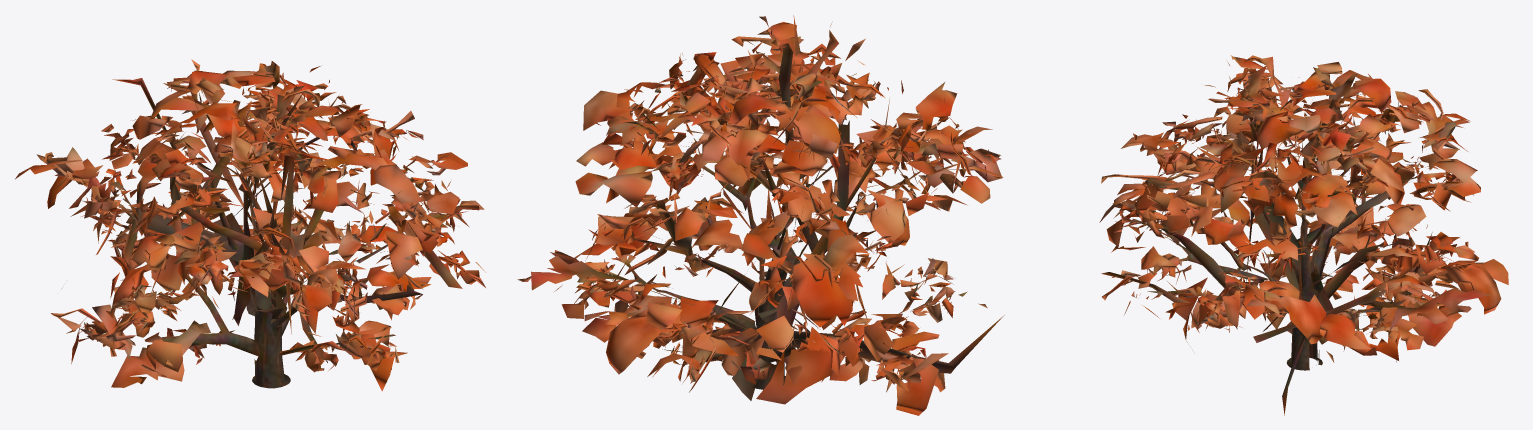
The model's file is tree_02_autumn_orange.glb.
3 renders of one model, left to right at view 1: azimuth 30°, elevation 25°; view 2: azimuth 150°, elevation 25°; view 3: azimuth 270°, elevation 25°, orthographic. The views are drawn at different scales.
Parts seen in each view (by area): view 1: geometry_0; view 2: geometry_0; view 3: geometry_0.
Boxes of the visible parts, x1,y1,x2,y2 form: geometry_0: (15,59,485,391); geometry_0: (517,15,1004,415); geometry_0: (1099,55,1508,415).
Bounding box in the file's own units: 1.15 × 1 × 1.2.
1 material, 1 textured.
